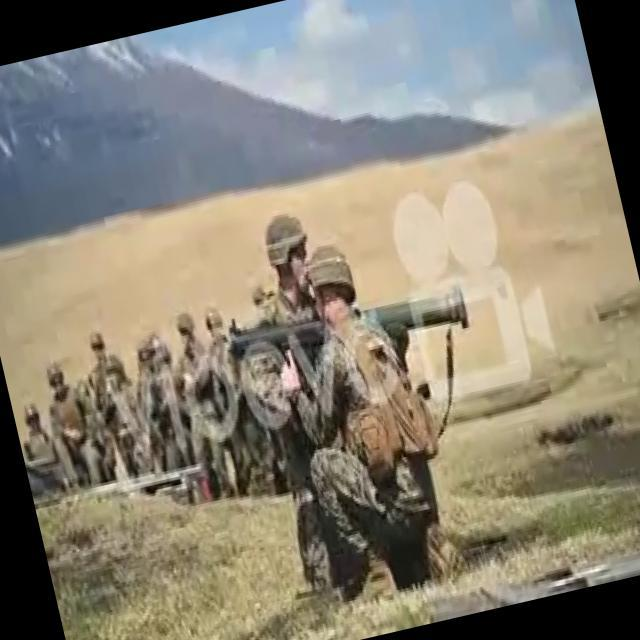rocket: (224, 274, 470, 378)
